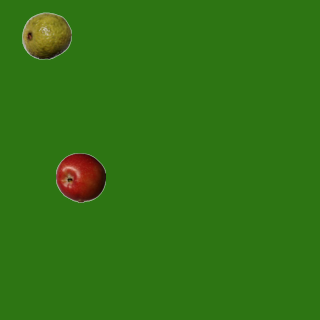Apple Braeburn: (55, 152, 105, 202)
Guava: (21, 10, 71, 60)
